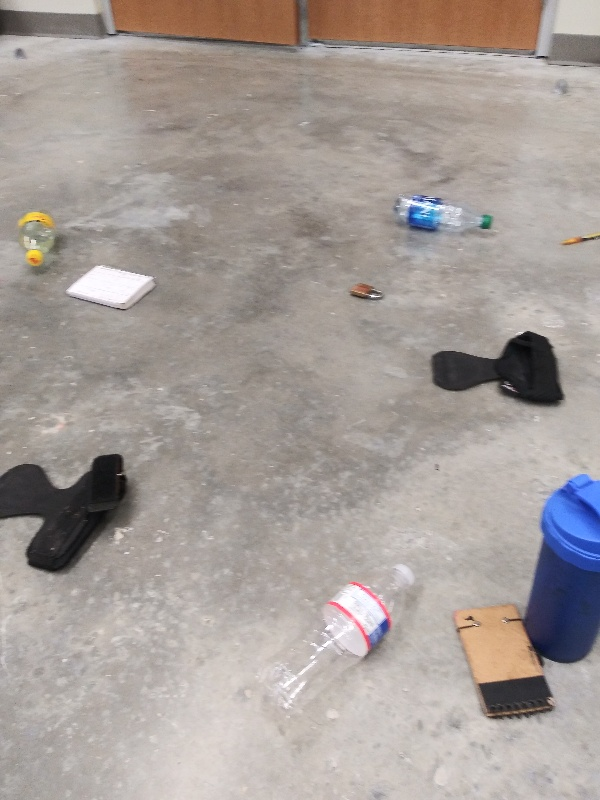bottle: (256, 560, 420, 716), (389, 189, 496, 240), (15, 201, 57, 267)
